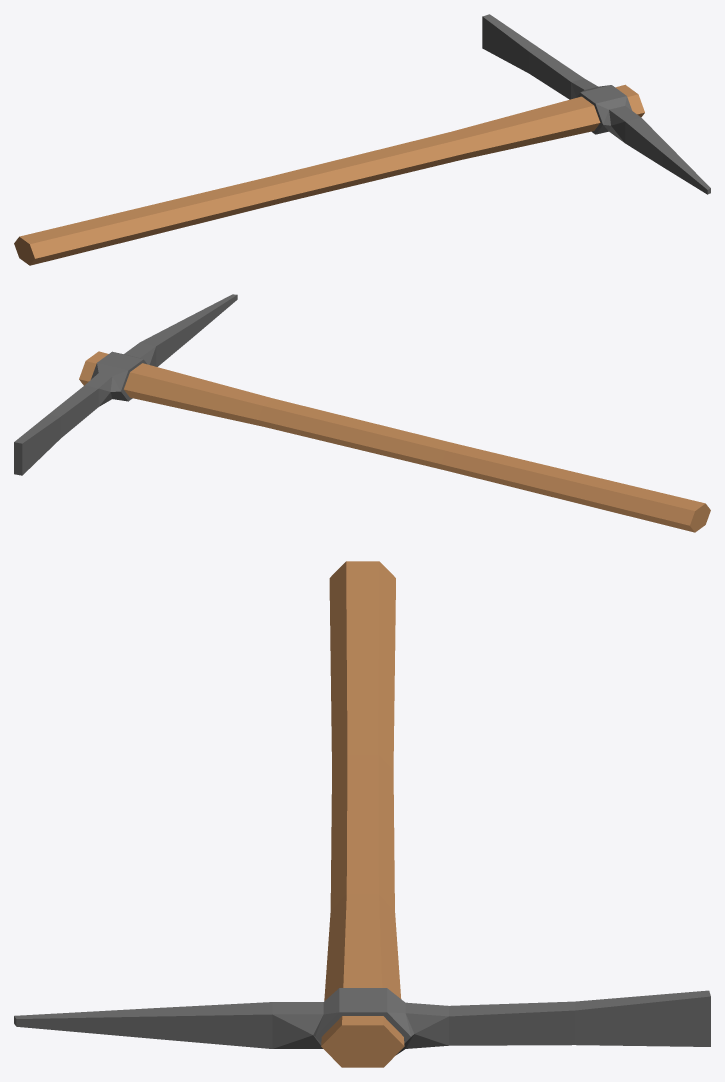
The model's file is Pickaxe_3D.glb.
3 renders of one model, top to bottom at view 1: azimuth 30°, elevation 25°; view 2: azimuth 150°, elevation 25°; view 3: azimuth 270°, elevation 25°, orthographic. The views are drawn at different scales.
Visible parts, largest first — view 1: Cylinder; view 2: Cylinder; view 3: Cylinder.
Part boxes in pixels (left/top/right/bottom): Cylinder: left=14, top=14, right=710, bottom=265; Cylinder: left=14, top=294, right=710, bottom=532; Cylinder: left=14, top=561, right=710, bottom=1067.
Size of the model in its own units: 1.36 by 0.0687 by 0.8581.
1 material, 1 textured.
